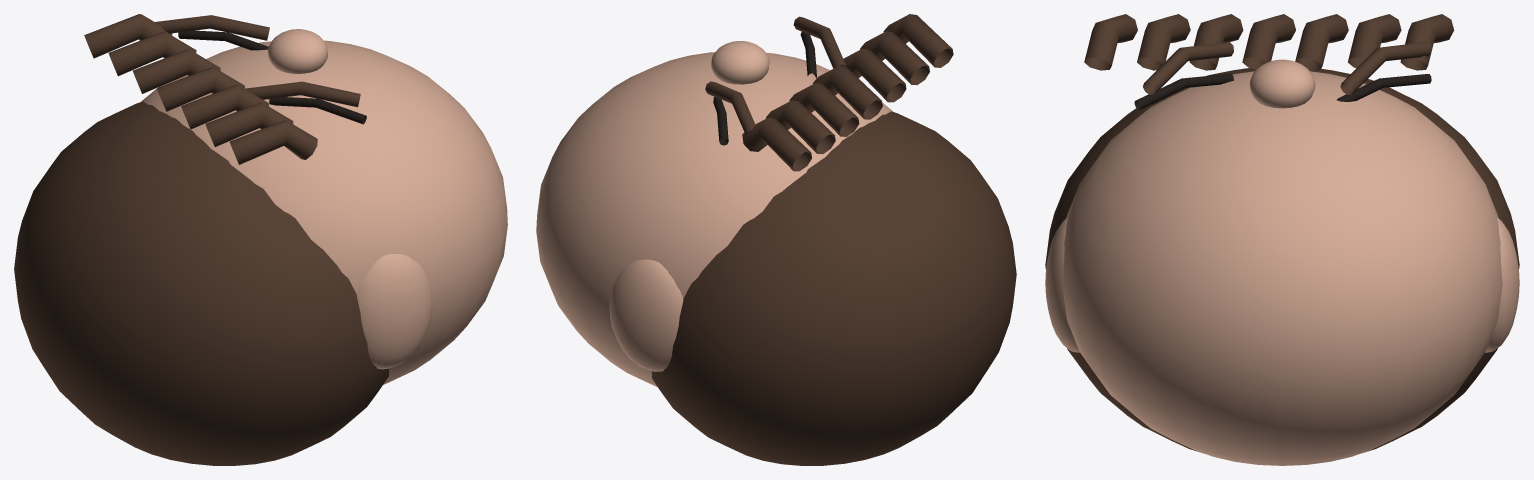
Rendered from rita_portrait.glb.
The picture shows the model from 3 angles, left to right: view 1: azimuth 30°, elevation 25°; view 2: azimuth 150°, elevation 25°; view 3: azimuth 270°, elevation 25°; orthographic projection. The views are drawn at different scales.
Parts seen in each view (by area): view 1: Back of hair, Face, Ear.001, Hair fringe.006, Nose, Hair fringe.005, Hair fringe.001, Hair fringe.002, Hair fringe.004, Hair fringe.003, Hair fringe, Soft eyebrow (+3 smaller); view 2: Back of hair, Face, Ear, Nose, Hair fringe, Hair fringe.003, Hair fringe.002, Hair fringe.001, Hair fringe.006, Hair fringe.005, Hair fringe.004, Soft eyebrow.001 (+1 smaller); view 3: Face, Back of hair, Nose, Ear, Ear.001, Hair fringe.006, Hair fringe.005, Hair fringe.002, Hair fringe.003, Soft eyebrow.001, Soft eyebrow, Hair fringe.001 (+4 smaller).
Boxes of the visible parts, <box> form: Back of hair: <box>14,101,389,465</box>; Face: <box>141,40,507,384</box>; Ear.001: <box>356,254,432,369</box>; Hair fringe.006: <box>230,120,317,164</box>; Nose: <box>268,29,327,73</box>; Hair fringe.005: <box>205,102,293,146</box>; Hair fringe.001: <box>108,31,196,76</box>; Hair fringe.002: <box>133,49,220,93</box>; Hair fringe.004: <box>181,85,269,129</box>; Hair fringe.003: <box>157,67,244,111</box>; Hair fringe: <box>84,14,172,58</box>; Soft eyebrow: <box>155,15,269,40</box>; Back of hair: <box>651,111,1016,465</box>; Face: <box>536,52,892,386</box>; Ear: <box>609,259,683,371</box>; Nose: <box>711,41,769,84</box>; Hair fringe: <box>742,117,811,171</box>; Hair fringe.003: <box>813,65,882,119</box>; Hair fringe.002: <box>789,83,859,136</box>; Hair fringe.001: <box>766,100,835,154</box>; Hair fringe.006: <box>883,14,953,67</box>; Hair fringe.005: <box>860,31,929,85</box>; Hair fringe.004: <box>840,48,906,102</box>; Soft eyebrow.001: <box>793,16,845,68</box>; Face: <box>1062,71,1502,465</box>; Back of hair: <box>1045,68,1519,452</box>; Nose: <box>1249,59,1315,108</box>; Ear: <box>1485,217,1519,352</box>; Ear.001: <box>1045,217,1079,352</box>; Hair fringe.006: <box>1084,14,1137,70</box>; Hair fringe.005: <box>1137,14,1190,70</box>; Hair fringe.002: <box>1295,14,1348,70</box>; Hair fringe.003: <box>1242,14,1295,69</box>; Soft eyebrow.001: <box>1143,42,1233,94</box>; Soft eyebrow: <box>1340,42,1431,94</box>; Hair fringe.001: <box>1347,14,1401,68</box>.
Bounding box in the file's own units: 0.415 × 0.356 × 0.36.
